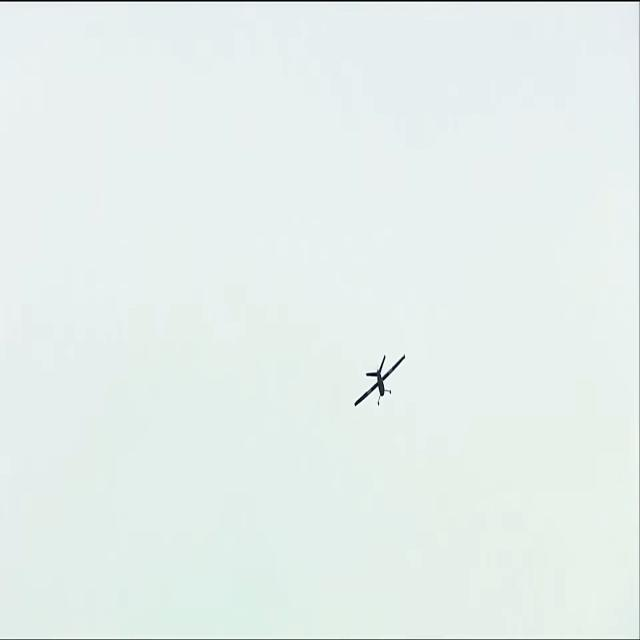iha: (354, 353, 406, 408)
